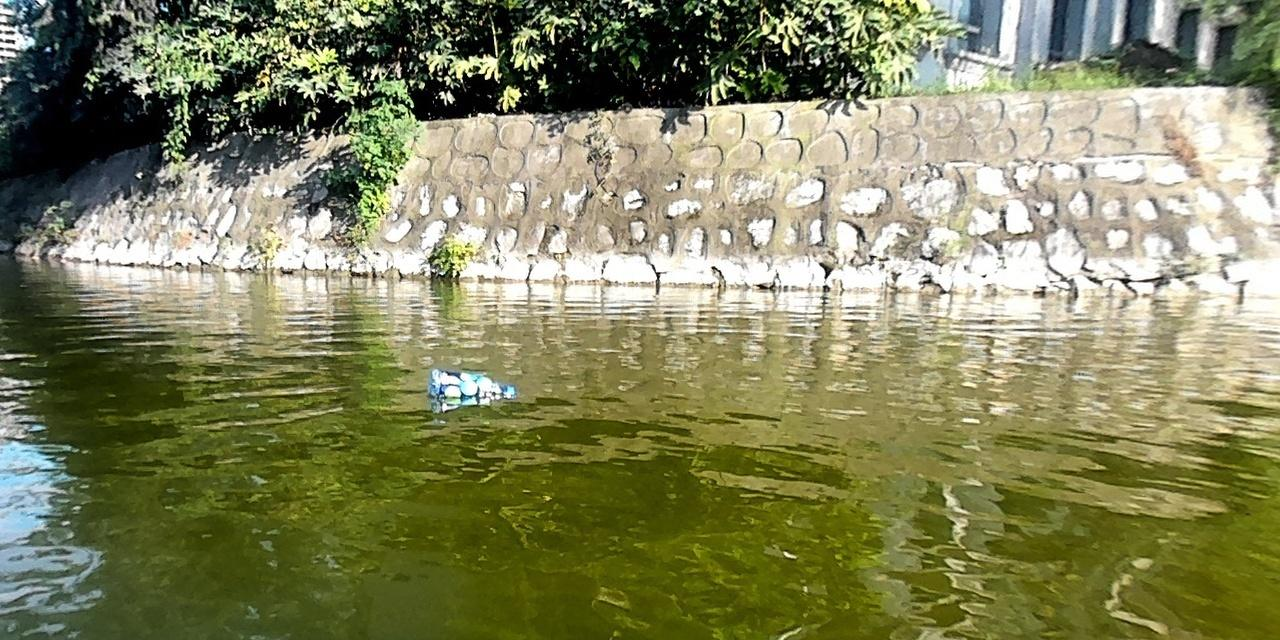bottle: (424, 364, 517, 409)
